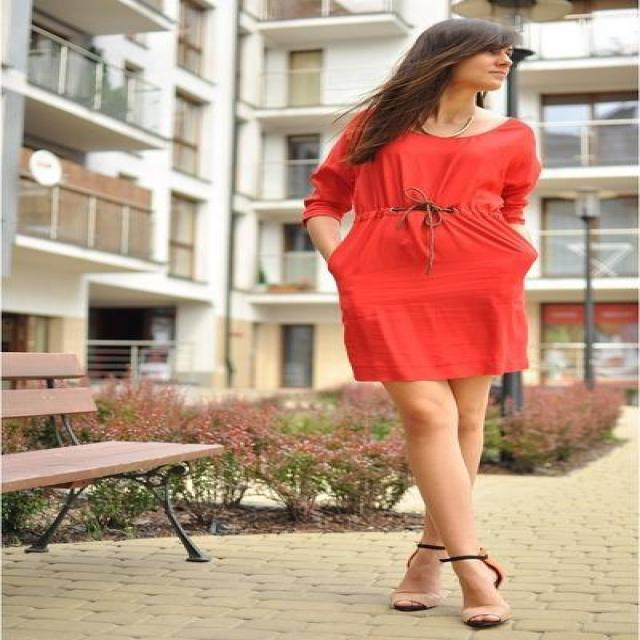dress: (304, 118, 555, 382)
shoe: (458, 576, 488, 608)
